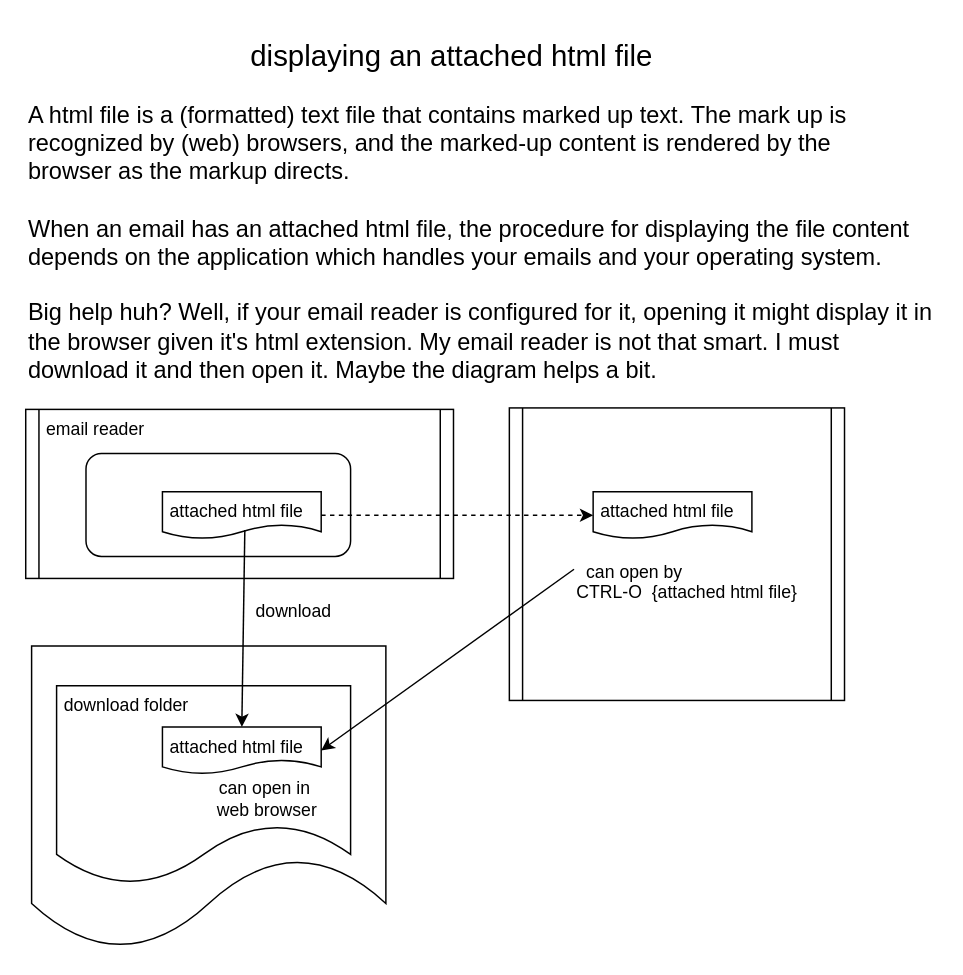
Some shapes in this 963 by 975 pixel diagram are drawn without their labels. Each missing label, with the box of its shape:
email -: (85, 452, 351, 556)
operating system files: (30, 645, 386, 949)
Web Browser: (508, 406, 845, 700)
